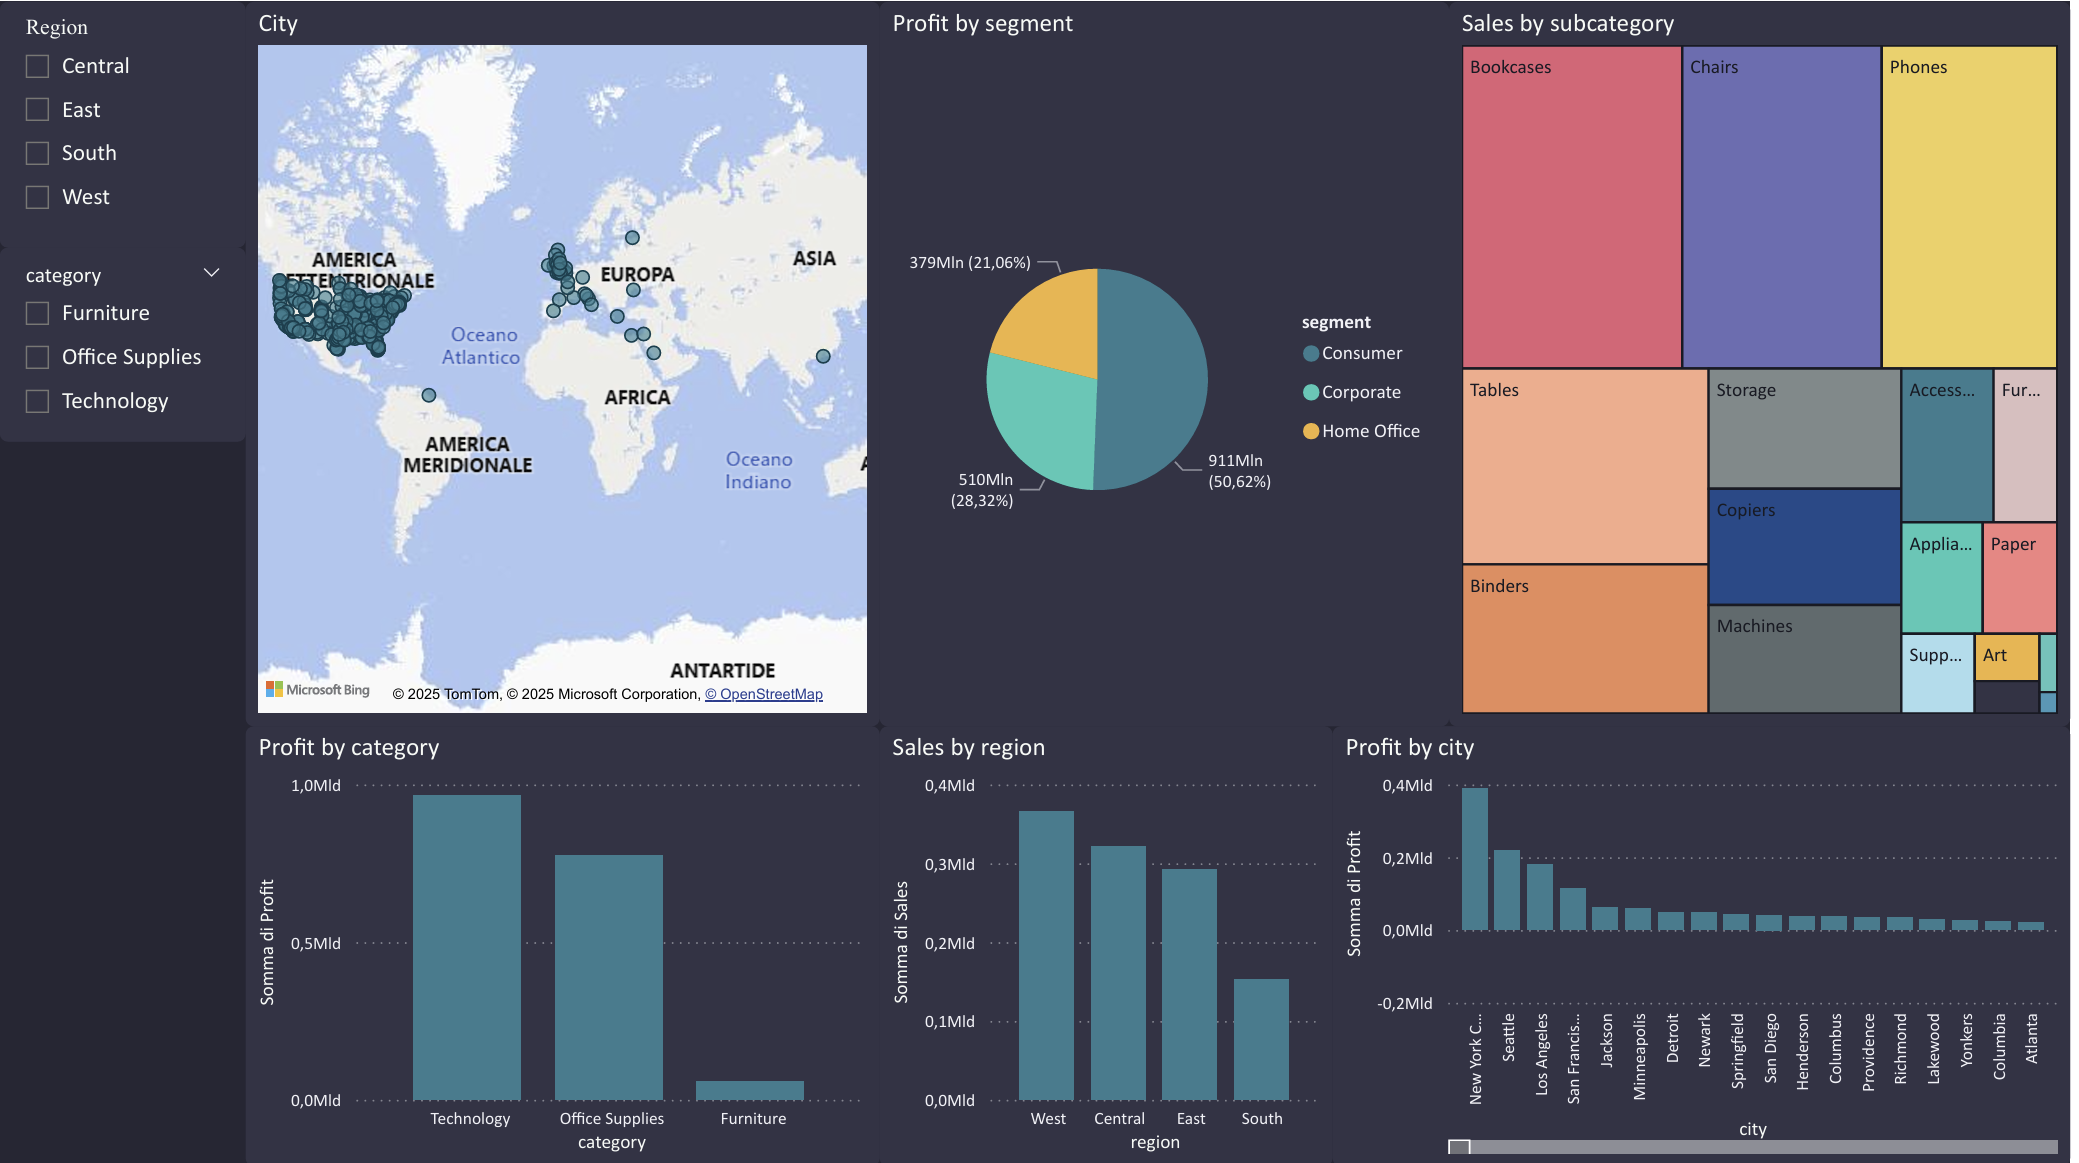

What the dashboard file says about the page in this screenshot:
{"tool":"powerbi","page":{"name":"Sales","canvas":[1280,720],"ordinal":0},"visuals":[{"type":"shape","box":[0,0,1280,48],"z":0},{"type":"columnChart","title":"Sales by region","fields":{"Y":["Sum(Store_final_data.Sales)"],"Category":["Store_final_data.region"]},"box":[232,400,280,288],"z":1000},{"type":"slicer","fields":{"Values":["Store_final_data.region"]},"box":[0,168,152,152],"z":2000},{"type":"clusteredColumnChart","title":" Profit by city","fields":{"Category":["Store_final_data.city"],"Y":["Sum(Store_final_data.Profit)"]},"box":[512,400,320,288],"z":3000},{"type":"map","title":"City","fields":{"Category":["Store_final_data.city"]},"box":[152,48,400,320],"z":4000},{"type":"clusteredColumnChart","title":"Profit by category","fields":{"Y":["Sum(Store_final_data.Profit)"],"Category":["Store_final_data.category"]},"box":[0,400,232,288],"z":5000},{"type":"treemap","title":"Sales by subcategory","fields":{"Group":["Store_final_data.sub_category"],"Values":["Sum(Store_final_data.Sales)"]},"box":[896,48,376,320],"z":6000},{"type":"pieChart","title":"Profit by segment","fields":{"Category":["Store_final_data.segment"],"Y":["Sum(Store_final_data.Profit)"]},"box":[544,48,352,320],"z":7000},{"type":"slicer","fields":{"Values":["Store_final_data.category"]},"box":[0,56,152,120],"z":8000},{"type":"lineClusteredColumnComboChart","title":"Profit by ship_date","fields":{"Category":["Store_final_data.ship_date"],"Y":["Sum(Store_final_data.Profit)"]},"box":[856,400,424,288],"z":9000},{"type":"shape","box":[0,688,1280,32],"z":10000},{"type":"shape","box":[0,688,1280,32],"z":11000},{"type":"textbox","box":[0,0,304,40],"z":12000}]}

Visuals, with their boxes in screenshot pixels (x1, y1, x2, y2), scaled from the page's 1280x720 canvas onto the 2079x1163 screenshot:
shape: 0/0/2078/78
"Sales by region" columnChart: 377/646/832/1111
slicer - Store_final_data.region: 0/271/247/517
" Profit by city" clusteredColumnChart: 832/646/1351/1111
"City" map: 247/78/897/594
"Profit by category" clusteredColumnChart: 0/646/377/1111
"Sales by subcategory" treemap: 1455/78/2066/594
"Profit by segment" pieChart: 884/78/1455/594
slicer - Store_final_data.category: 0/90/247/284
"Profit by ship_date" lineClusteredColumnComboChart: 1390/646/2078/1111
shape: 0/1111/2078/1162
shape: 0/1111/2078/1162
textbox: 0/0/494/65
